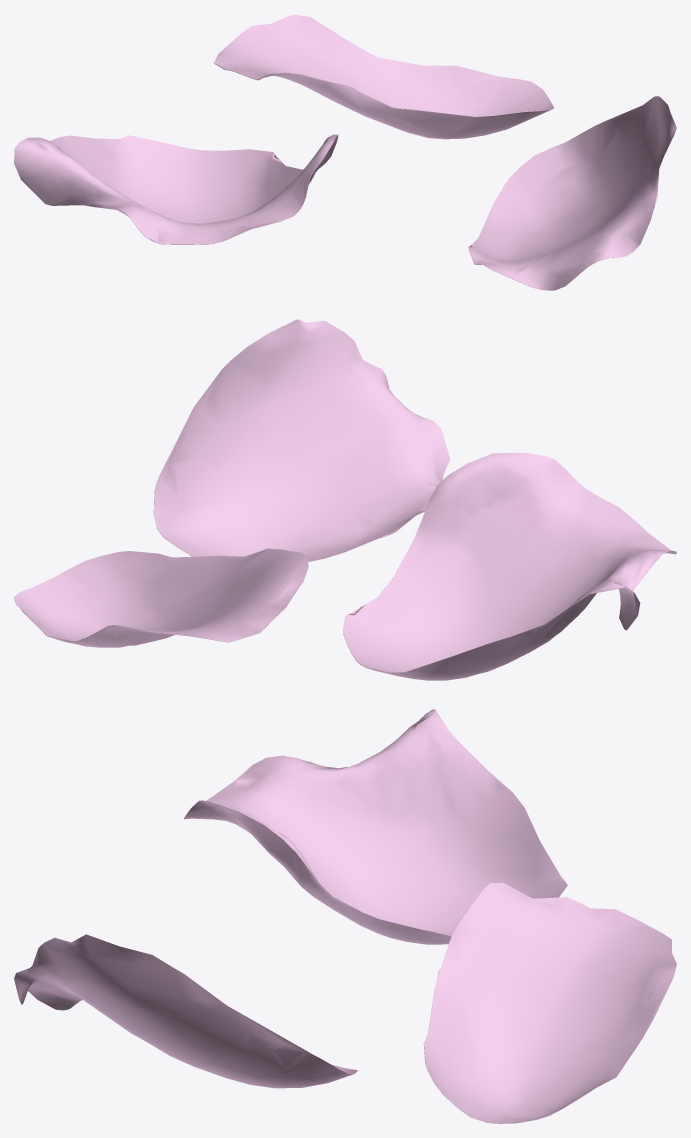
Rendered from petals.glb.
3 views of the same model, one above another, from view 1: azimuth 30°, elevation 25°; view 2: azimuth 150°, elevation 25°; view 3: azimuth 270°, elevation 25° (orthographic). The views are drawn at different scales.
Visible parts, largest first — view 1: bathroom_accessories_set_5_021; view 2: bathroom_accessories_set_5_021; view 3: bathroom_accessories_set_5_021.
Part boxes in pixels (x1,y1,x2,y2): bathroom_accessories_set_5_021: (14,14,676,290); bathroom_accessories_set_5_021: (14,319,676,680); bathroom_accessories_set_5_021: (14,709,676,1123).
Size of the model in its own units: 0.1192 by 0.0329 by 0.1119.
